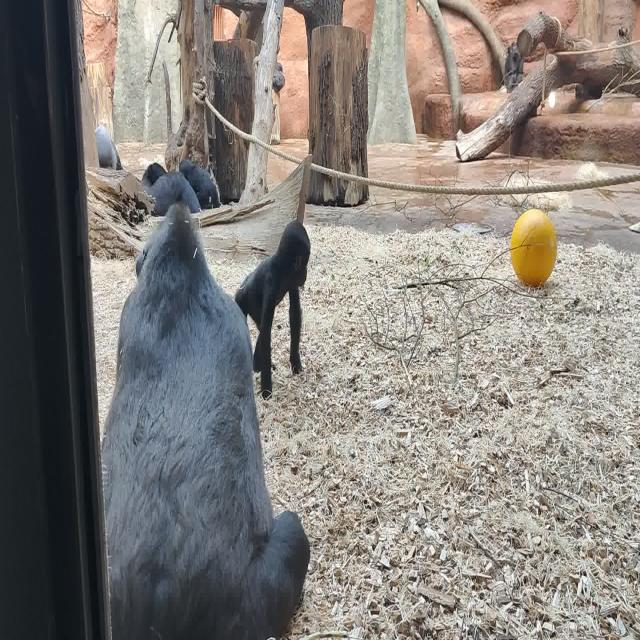monkey: (102, 202, 310, 640), (234, 220, 310, 400), (142, 162, 201, 218), (179, 158, 220, 210)
